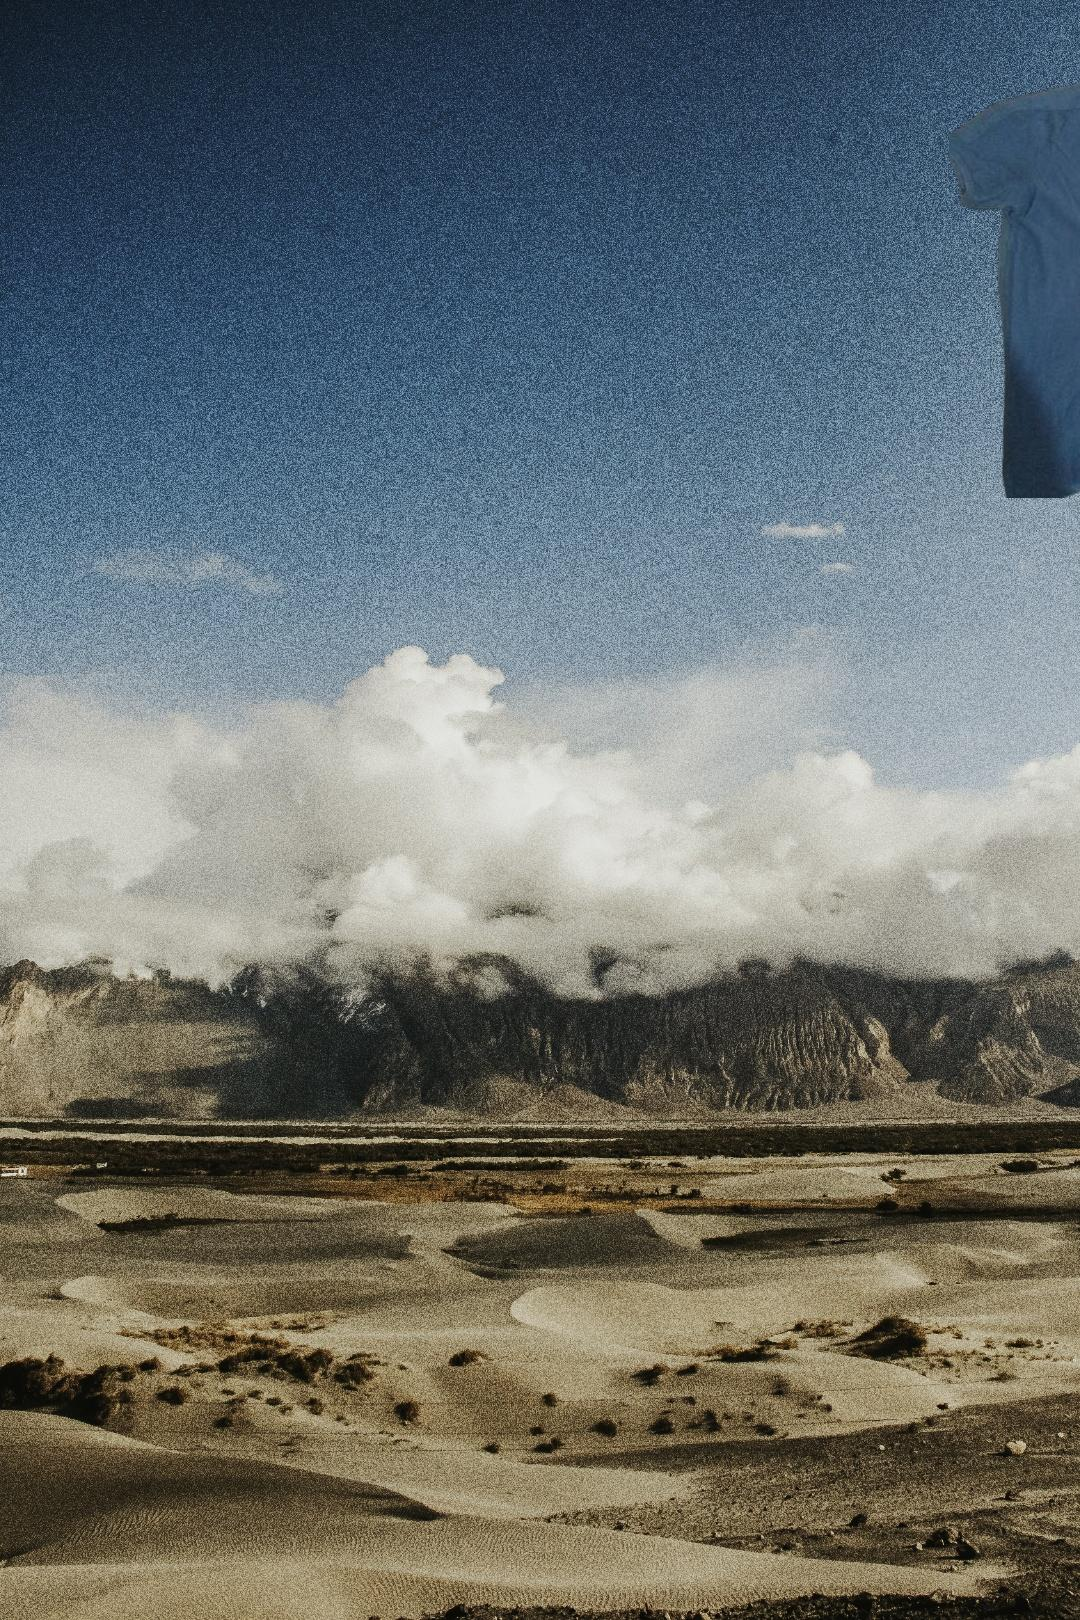clothes: (949, 52, 1080, 498)
